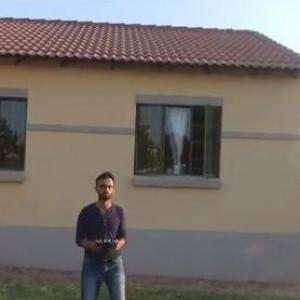follow: (67, 170, 129, 299)
